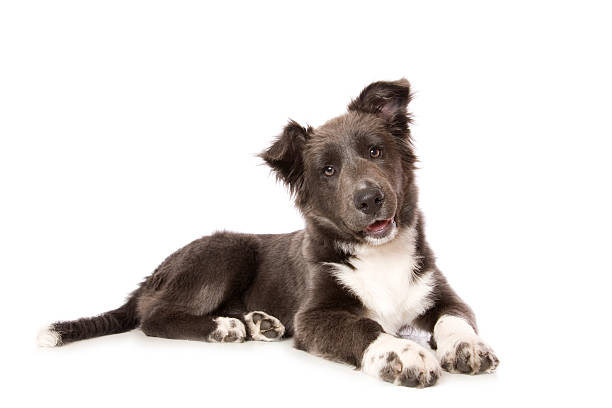dog: (42, 64, 515, 389)
